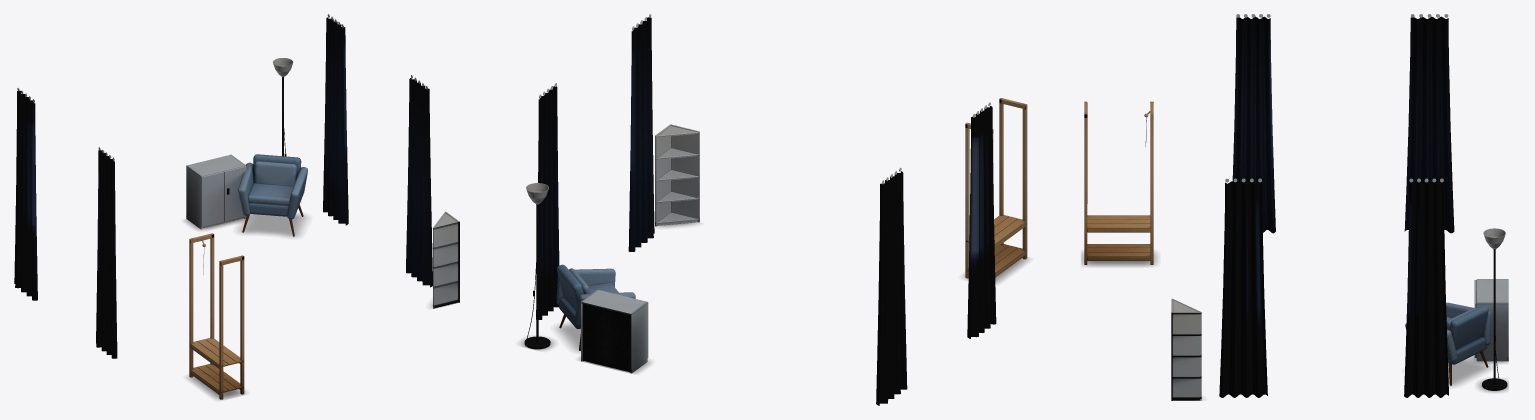
File: floor2-furniture.glb
3 renders of one model, left to right at view 1: azimuth 30°, elevation 25°; view 2: azimuth 150°, elevation 25°; view 3: azimuth 270°, elevation 25°, orthographic. The views are drawn at different scales.
Parts seen in each view (by area): view 1: attic_room__curtain_east_S, attic_room__curtain_east_N, attic_room__rack_cord, attic_room__curtain_west_N, attic_room__curtain_west_S, attic_room__chair_arm0, attic_room__cab_back, attic_room__shelf_board0, attic_room__Armchair__shadow, attic_room__lamp_base; view 2: attic_room__curtain_west_N, attic_room__curtain_west_S, attic_room__curtain_east_S, attic_room__cab_back, attic_room__curtain_east_N, attic_room__shelf_board0, attic_room__rack_cord, attic_room__chair_arm0, attic_room__lamp_base; view 3: attic_room__curtain_east_S, attic_room__curtain_east_N, attic_room__curtain_west_N, attic_room__curtain_west_S, attic_room__rack_cord, attic_room__shelf_board0, attic_room__chair_arm0, attic_room__cab_back, attic_room__lamp_base, attic_room__Armchair__shadow, attic_room__Clothes rack__shadow.
Part boxes in pixels (x1,y1,x2,y2): attic_room__curtain_east_S: (406,78,432,287); attic_room__curtain_east_N: (323,17,348,225); attic_room__rack_cord: (189,233,244,399); attic_room__curtain_west_N: (14,90,37,300); attic_room__curtain_west_S: (96,150,117,358); attic_room__chair_arm0: (238,154,307,236); attic_room__cab_back: (186,154,246,229); attic_room__shelf_board0: (432,211,459,308); attic_room__Armchair__shadow: (239,214,306,236); attic_room__lamp_base: (273,58,293,156); attic_room__curtain_west_N: (876,171,907,405); attic_room__curtain_west_S: (967,106,996,338); attic_room__curtain_east_S: (628,17,654,251); attic_room__cab_back: (581,290,648,373); attic_room__curtain_east_N: (536,86,559,319); attic_room__shelf_board0: (655,124,699,226); attic_room__rack_cord: (965,98,1027,278); attic_room__chair_arm0: (556,264,635,350); attic_room__lamp_base: (524,183,550,349); attic_room__curtain_east_S: (1219,181,1267,397); attic_room__curtain_east_N: (1404,181,1448,397); attic_room__curtain_west_N: (1404,16,1454,233); attic_room__curtain_west_S: (1232,16,1275,233); attic_room__rack_cord: (1084,101,1153,264); attic_room__shelf_board0: (1171,298,1201,400); attic_room__chair_arm0: (1405,302,1490,385); attic_room__cab_back: (1474,279,1508,361); attic_room__lamp_base: (1482,228,1507,390); attic_room__Armchair__shadow: (1448,358,1490,386); attic_room__Clothes rack__shadow: (1081,252,1156,266).
Bounding box in the file's own units: 4.24 × 2.47 × 4.58.
8 materials, 7 textured.
